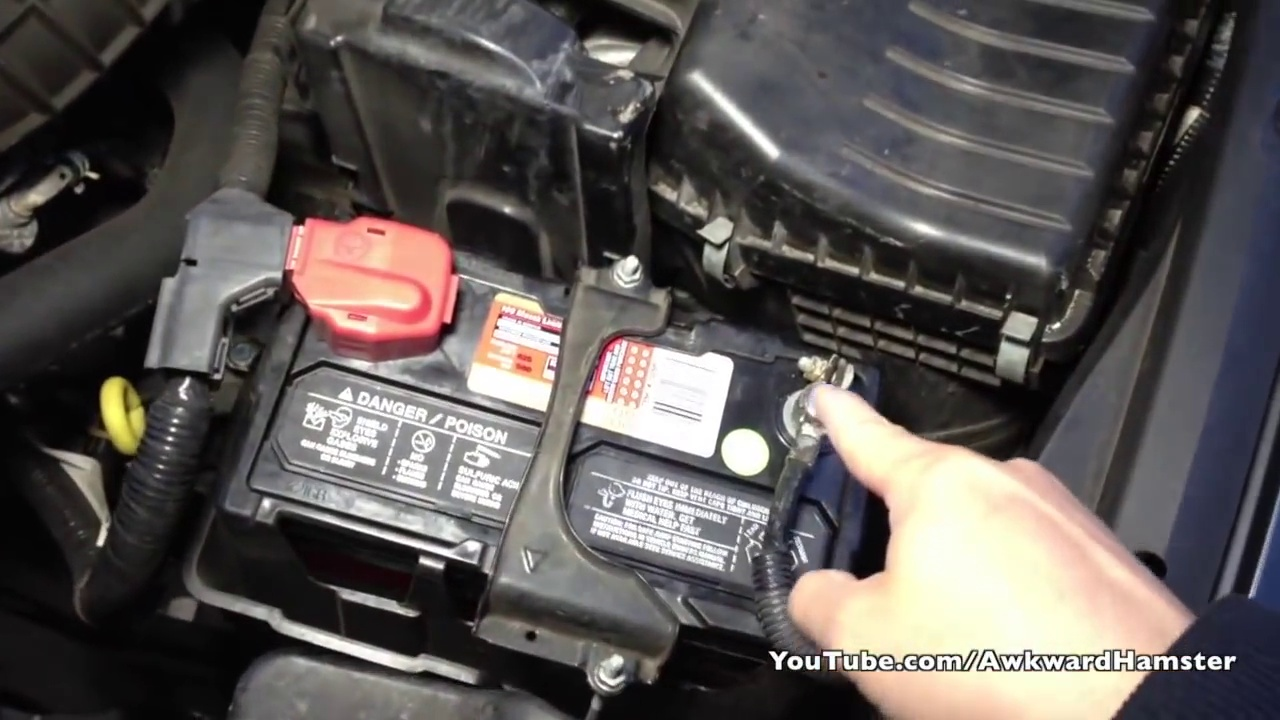battery: (219, 213, 850, 665)
neg_connected: (742, 341, 873, 499)
neg_touched: (783, 350, 968, 640)
pos_connected: (247, 211, 474, 356)
